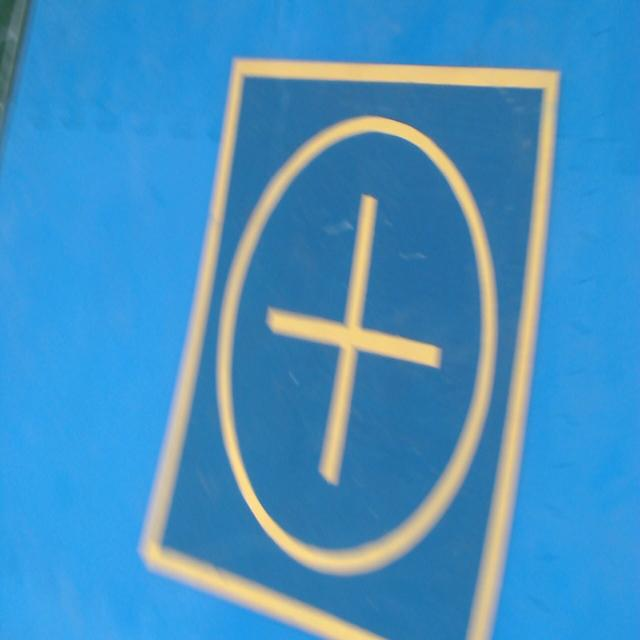base_pouso: (139, 59, 562, 639)
